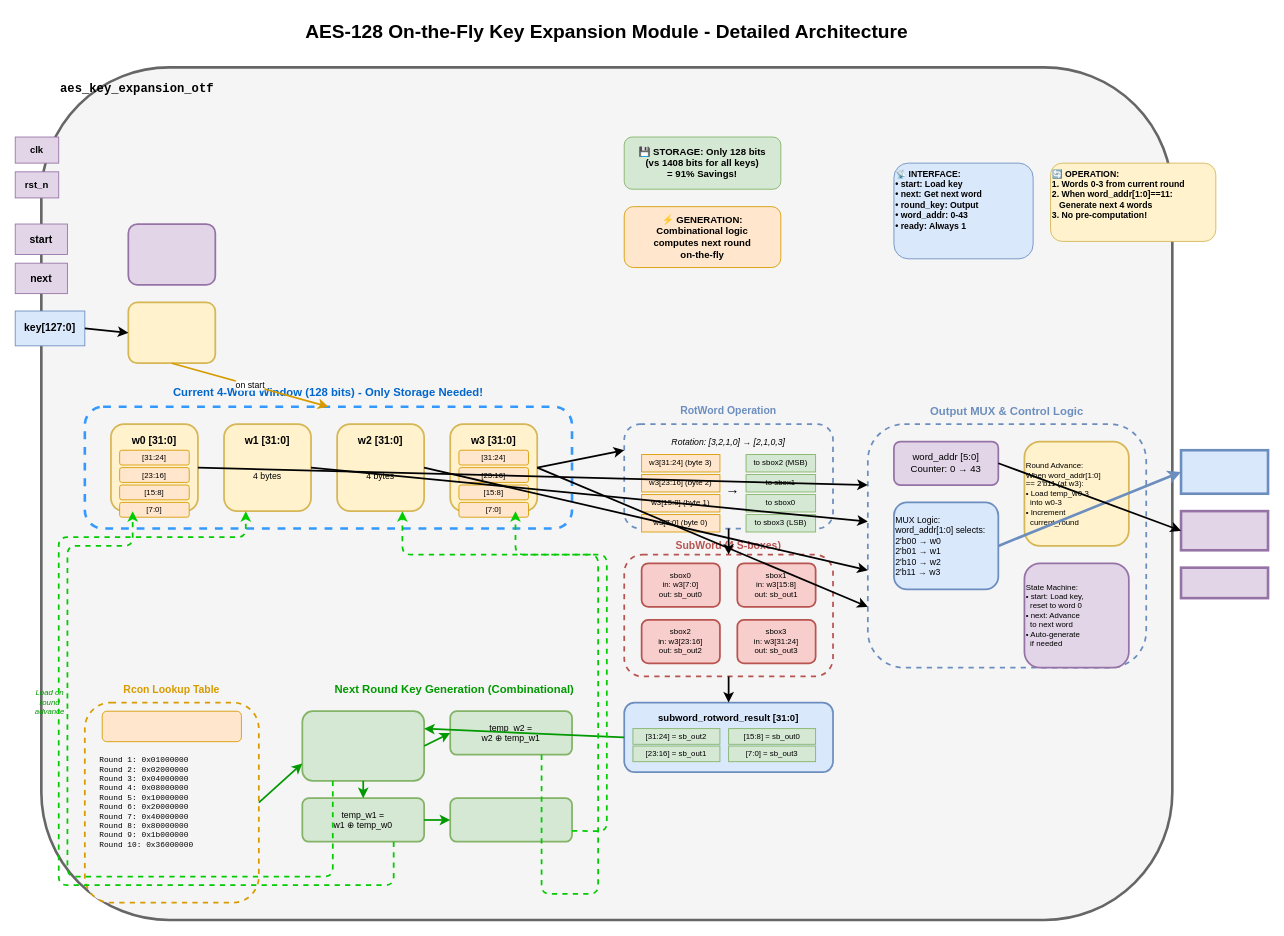
Image size: 1284x936. Some labels were removed from this diagram. Each missing label, with the centre of its shape:
current_round [3:0] (0 to 10): pixel 171 254
Input: current_round + 1: pixel 171 726
master_key Register [127:0]: pixel 171 332
ready: pixel 1224 582
round_key [31:0]: pixel 1224 471
temp_w0 = w0 ⊕ subword_rotword_result ⊕ Rcon(current_round+1): pixel 363 745
temp_w3 = w3 ⊕ temp_w2: pixel 510 819
word_addr [5:0]: pixel 1224 530
